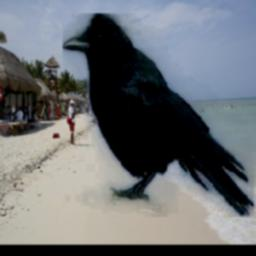Crow: (64, 14, 255, 218)
